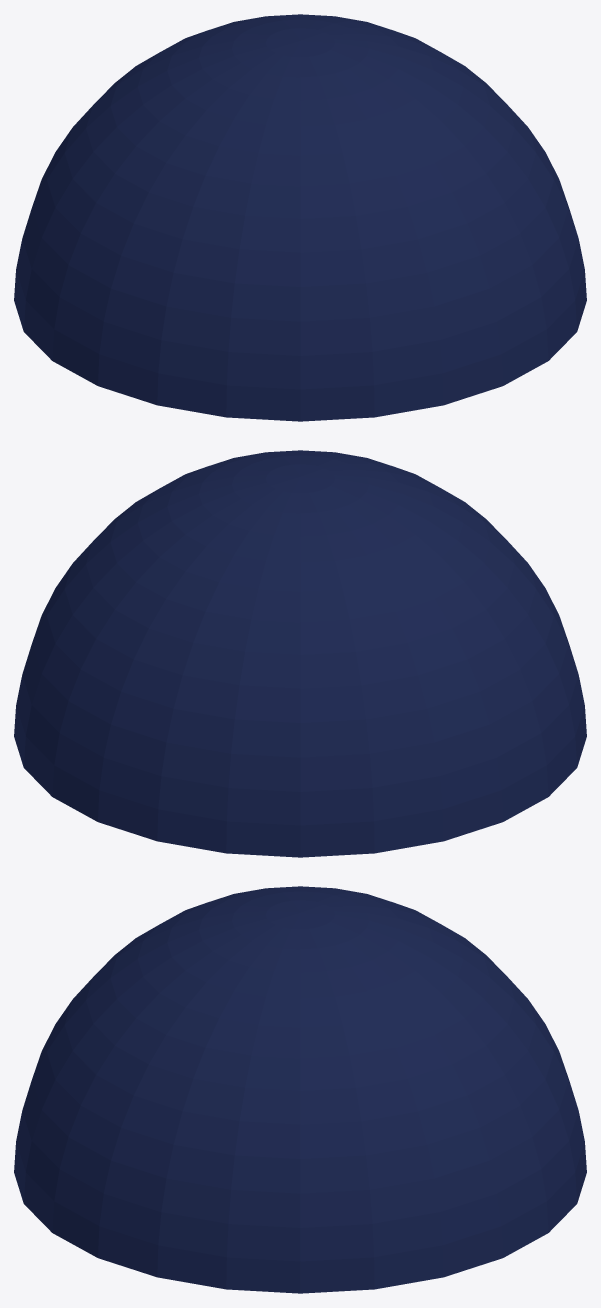
The model's file is dark_forest_walkway.glb.
3 renders of one model, top to bottom at view 1: azimuth 30°, elevation 25°; view 2: azimuth 150°, elevation 25°; view 3: azimuth 270°, elevation 25°, orthographic.
Visible parts, largest first — view 1: Sky_CelestialDome; view 2: Sky_CelestialDome; view 3: Sky_CelestialDome.
Part boxes in pixels (left/top/right/bottom): Sky_CelestialDome: left=14, top=14, right=586, bottom=421; Sky_CelestialDome: left=14, top=450, right=586, bottom=857; Sky_CelestialDome: left=14, top=886, right=586, bottom=1293.
Bounding box in the file's own units: 440 × 220 × 440.
